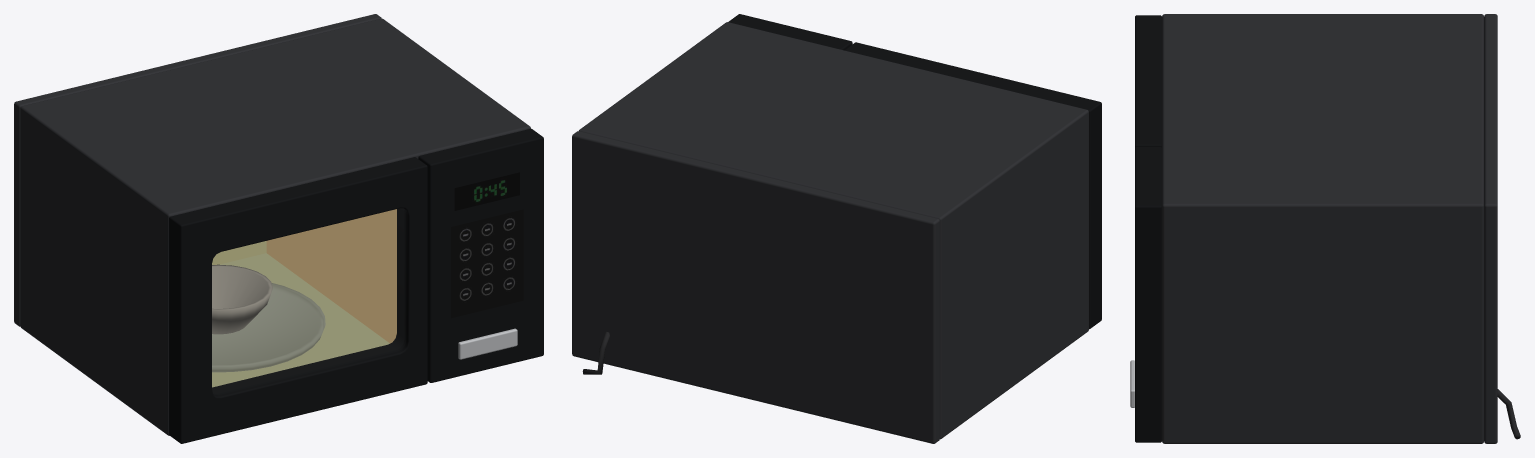
The model's file is microwave.glb.
3 views of the same model, side by side, from view 1: azimuth 30°, elevation 25°; view 2: azimuth 150°, elevation 25°; view 3: azimuth 270°, elevation 25° (orthographic). The views are drawn at different scales.
Visible parts, largest first — view 1: microwave_body, microwave_door, microwave_panel, microwave_cavity, microwave_turntable, microwave_display; view 2: microwave_body, microwave_door, microwave_panel; view 3: microwave_body, microwave_panel, microwave_door.
Boxes of the visible parts, x1,y1,x2,y2 form: microwave_body: [14, 14, 530, 435]; microwave_door: [169, 157, 427, 443]; microwave_panel: [418, 128, 543, 382]; microwave_cavity: [212, 209, 396, 387]; microwave_turntable: [212, 264, 325, 371]; microwave_display: [454, 172, 519, 210]; microwave_body: [572, 22, 1088, 443]; microwave_door: [844, 42, 1101, 329]; microwave_panel: [728, 14, 852, 50]; microwave_body: [1162, 14, 1497, 443]; microwave_panel: [1130, 147, 1161, 442]; microwave_door: [1135, 15, 1161, 147].
Bounding box in the file's own units: 0.5 × 0.3 × 0.4302.
Materials: 11 (2 with a texture image).
